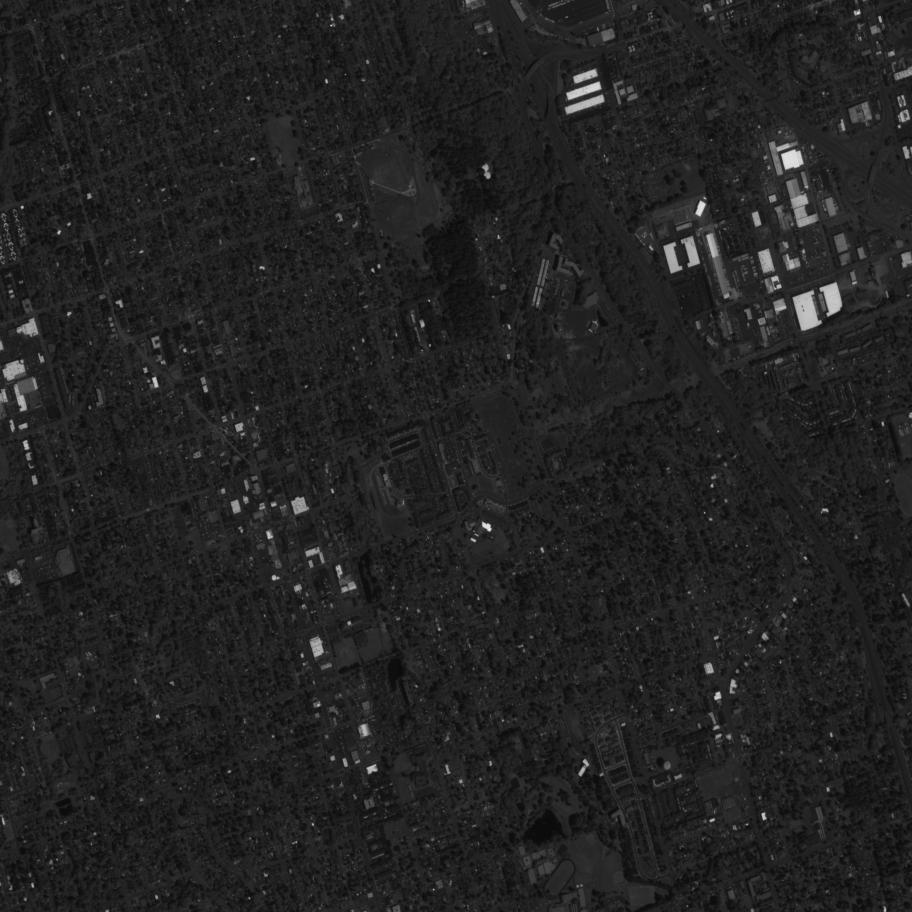storage-tank: (663, 760, 672, 771)
